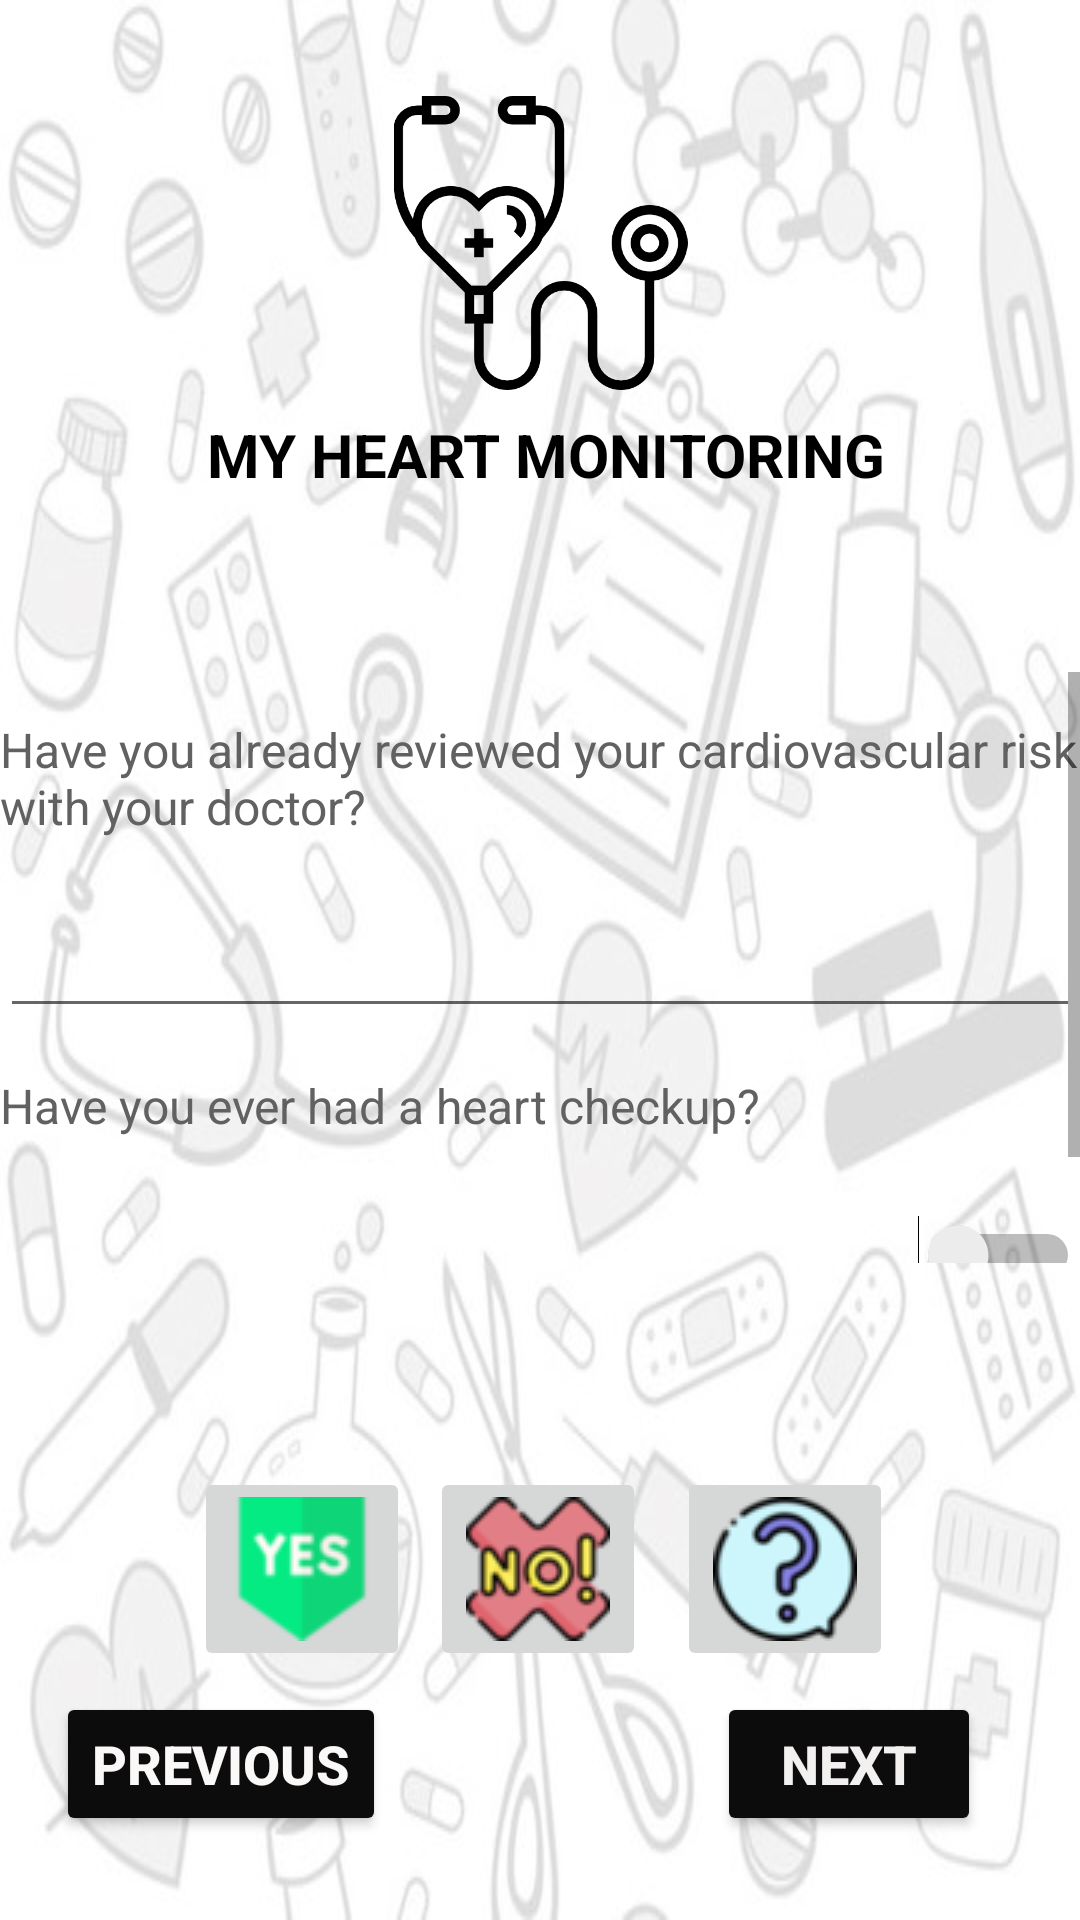

Where icons sit on this 1080 x 1920 app screen, as (x1, y1, x2, y2):
interrogation mark: (677, 1467, 893, 1671)
